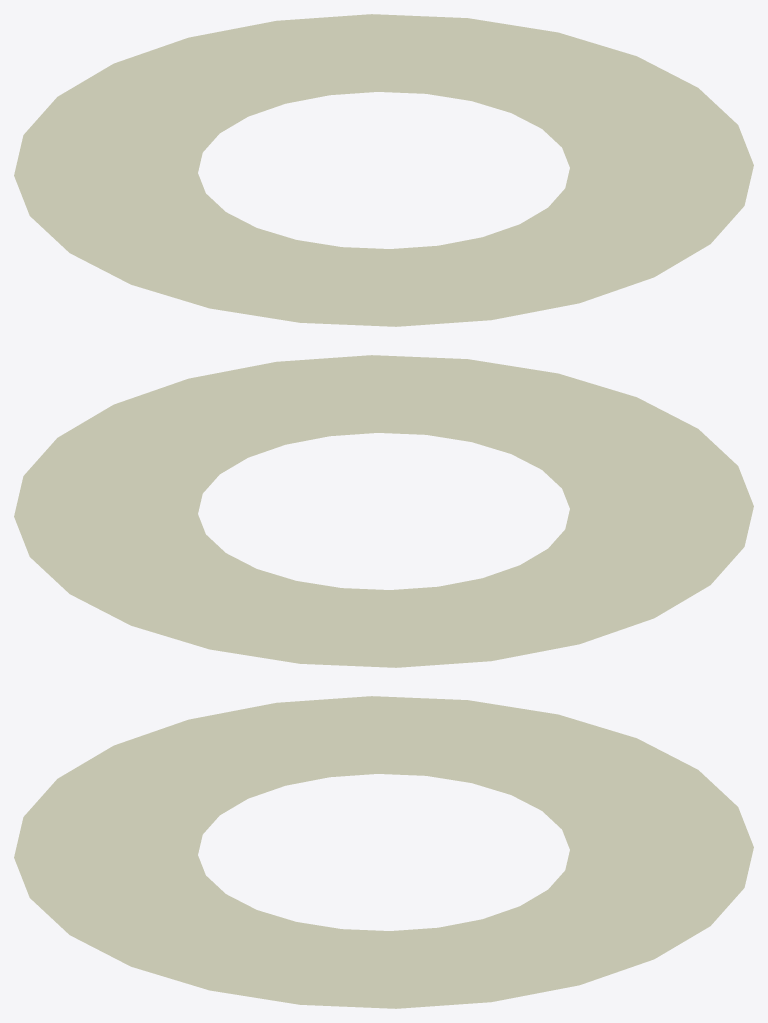
The model's file is original-101.obj.
3 views of the same model, one above another, from view 1: azimuth 30°, elevation 25°; view 2: azimuth 150°, elevation 25°; view 3: azimuth 270°, elevation 25° (orthographic).
Visible parts, largest first — view 1: #ID475; view 2: #ID475; view 3: #ID475.
Boxes of the visible parts, x1=… form: #ID475: x1=14, y1=14, x2=753, y2=326; #ID475: x1=14, y1=355, x2=753, y2=667; #ID475: x1=14, y1=696, x2=753, y2=1008.
Bounding box in the file's own units: 0.0797 × 0 × 0.0797.
